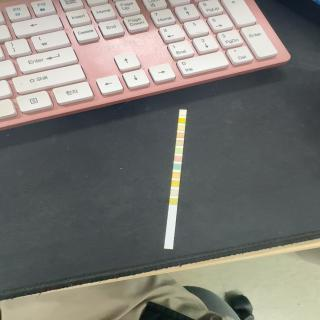mark: (170, 198, 178, 205), (174, 156, 183, 162), (174, 163, 181, 170), (172, 180, 179, 187), (171, 189, 178, 196), (172, 172, 180, 178), (177, 132, 184, 138), (176, 140, 183, 146), (175, 148, 182, 154), (179, 111, 186, 116), (179, 118, 186, 123), (178, 125, 185, 130)
